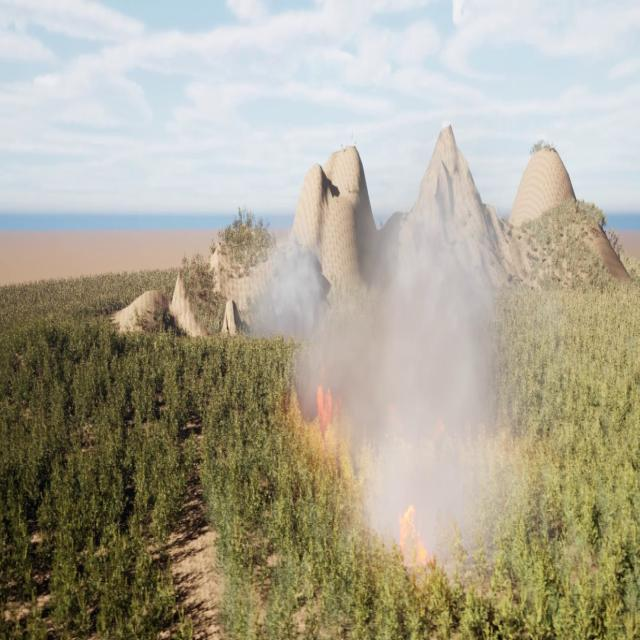fire: (398, 496, 432, 568), (314, 381, 336, 438)
smoke: (241, 138, 523, 590)
